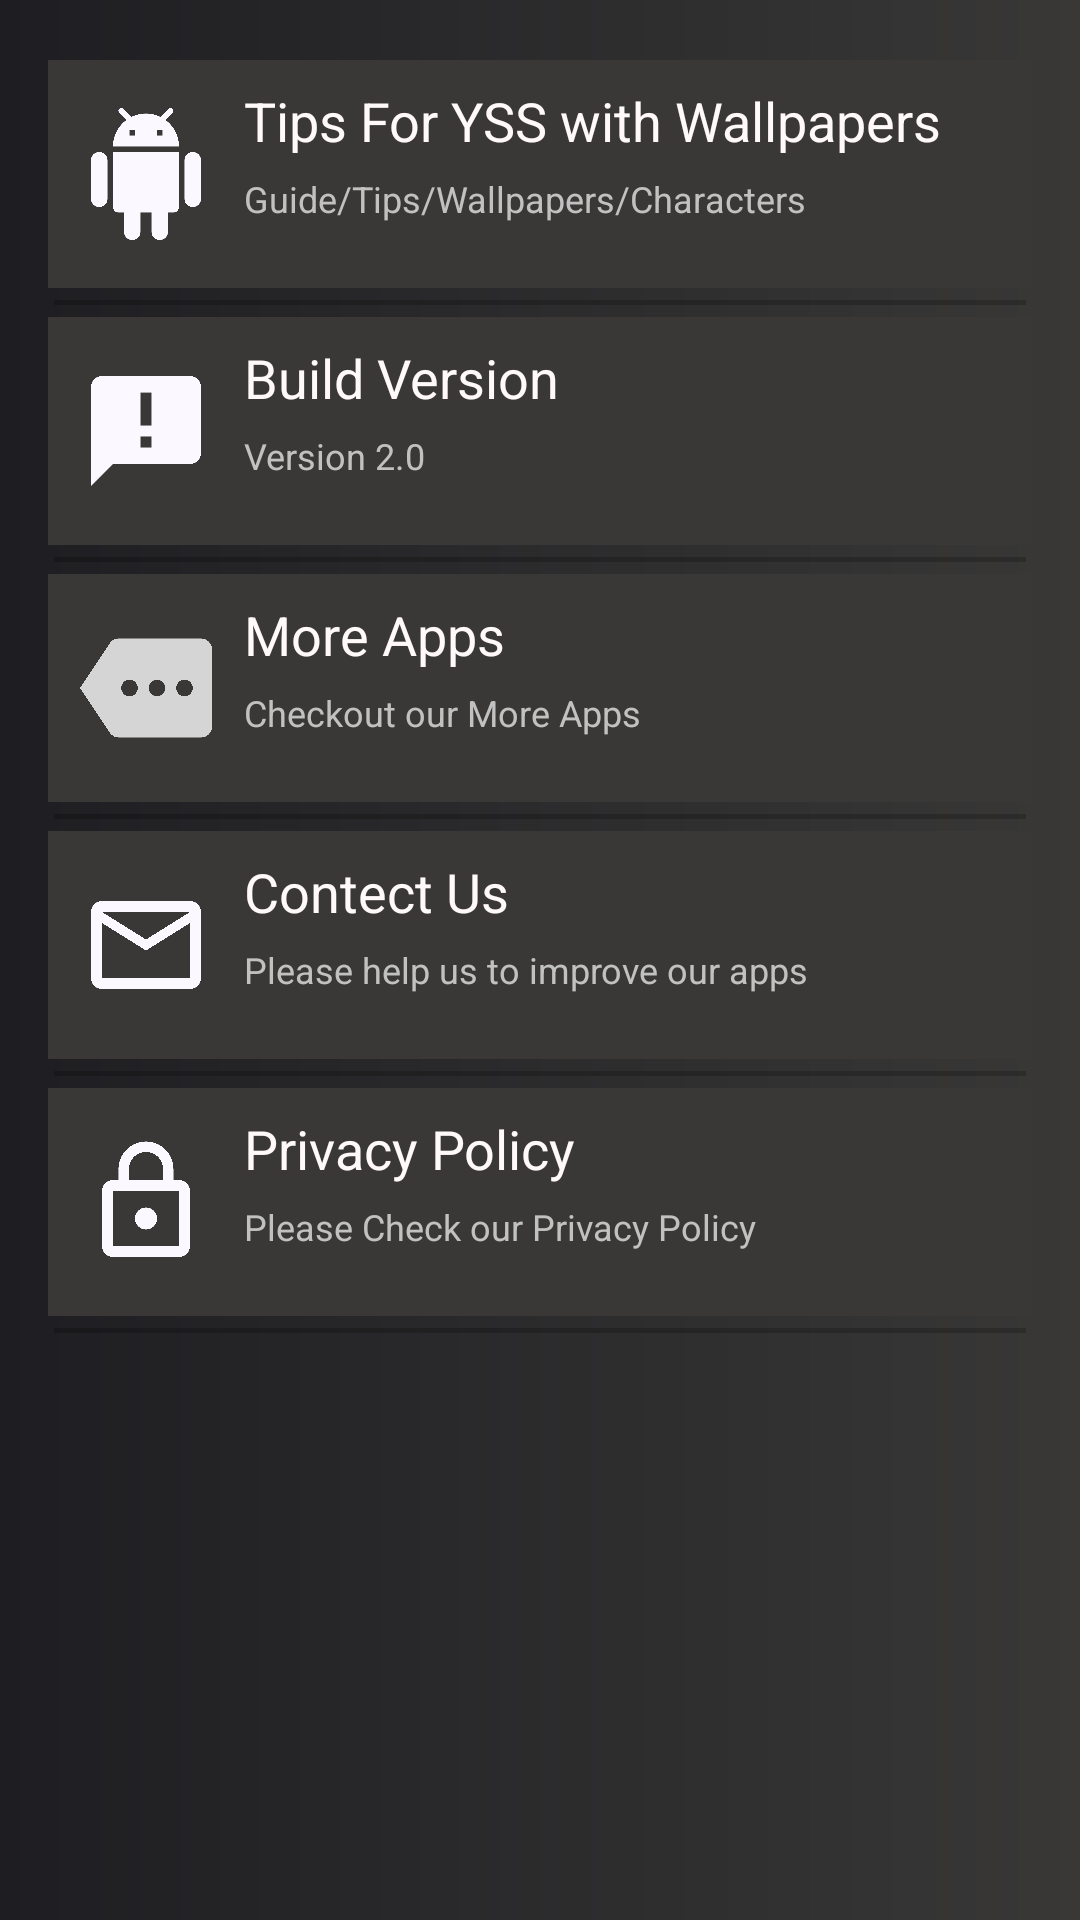

Icon bounding boxes for this 1080px x 1920px phone screenshot, format Rect(x1, y1, x2, y2):
announcement: Rect(91, 376, 201, 486)
